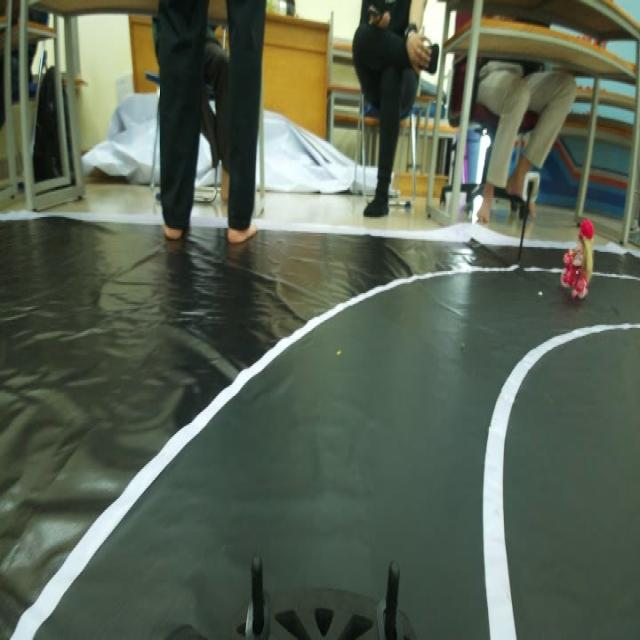pedestrian: (563, 213, 597, 303)
